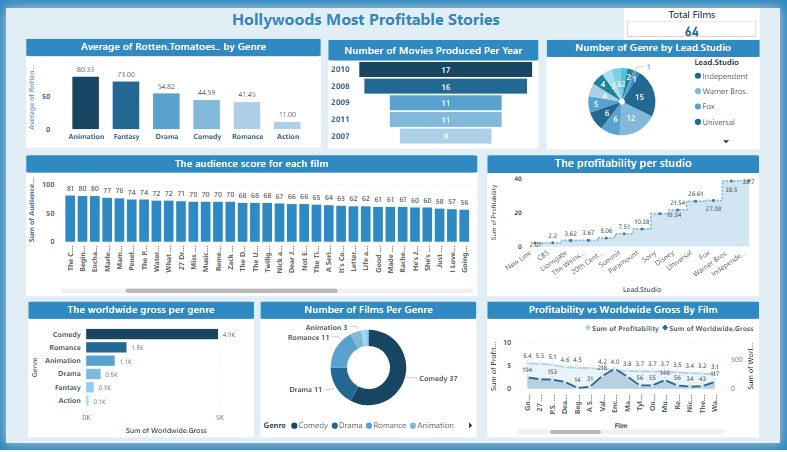

The dashboard page shown, as its layout file describes it:
{"tool":"powerbi","page":{"name":"Page 1","canvas":[1280,720],"ordinal":0},"visuals":[{"type":"actionButton","title":"Hollywoods Most Profitable Stories","box":[116.5,0,959.1,39.4],"z":0},{"type":"clusteredColumnChart","fields":{"Category":["clean_df.Genre"],"Y":["Avg(clean_df.Rotten.Tomatoes..)"]},"box":[32.5,51.4,488.1,179.8],"z":1000},{"type":"funnel","title":"Number of Movies Produced Per Year","fields":{"Category":["clean_df.Year"],"Y":["CountNonNull(clean_df.Film)"]},"box":[532.6,53.1,347.7,179.8],"z":2000},{"type":"clusteredColumnChart","title":"The audience score for each film","fields":{"Category":["clean_df.Film"],"Y":["Sum(clean_df.Audience..score..)"]},"box":[32.5,243.2,746.7,232.9],"z":3000},{"type":"areaChart","title":"The profitability per studio","fields":{"Category":["clean_df.Lead.Studio"],"Y":["Sum(clean_df.Profitability)"]},"box":[796.4,243.2,450.4,232.9],"z":4000},{"type":"barChart","title":"The worldwide gross per genre","fields":{"Category":["clean_df.Genre"],"Y":["Sum(clean_df.Worldwide.Gross)"]},"box":[36,486.4,373.4,224.4],"z":5000},{"type":"donutChart","title":"Number of Genre by Lead.Studio","fields":{"Category":["clean_df.Lead.Studio"],"Y":["CountNonNull(clean_df.Genre)"]},"box":[894,53.1,352.8,181.5],"z":6000},{"type":"areaChart","title":"Profitability vs Worldwide Gross By Film","fields":{"Category":["clean_df.Film"],"Y":["Sum(clean_df.Profitability)"],"Y2":["Sum(clean_df.Worldwide.Gross)"]},"box":[796.4,486.4,450.4,224.4],"z":7000},{"type":"donutChart","title":"Number of Films Per Genre","fields":{"Y":["CountNonNull(clean_df.Film)"],"Category":["clean_df.Genre"]},"box":[421.3,486.4,357.9,224.4],"z":8000},{"type":"cardVisual","title":"Total Films","fields":{"Data":["Count(clean_df.Film)"]},"box":[1022.5,0,224.4,53.1],"z":9000}]}

Visuals, with their boxes in screenshot pixels (x1, y1, x2, y2), scaled from the page's 1280x720 canvas onto the 787x452 screenshot:
"Hollywoods Most Profitable Stories" actionButton: bbox=[72, 0, 661, 25]
clusteredColumnChart - clean_df.Genre x Avg(clean_df.Rotten.Tomatoes..): bbox=[20, 32, 320, 145]
"Number of Movies Produced Per Year" funnel: bbox=[327, 33, 541, 146]
"The audience score for each film" clusteredColumnChart: bbox=[20, 153, 479, 299]
"The profitability per studio" areaChart: bbox=[490, 153, 767, 299]
"The worldwide gross per genre" barChart: bbox=[22, 305, 252, 446]
"Number of Genre by Lead.Studio" donutChart: bbox=[550, 33, 767, 147]
"Profitability vs Worldwide Gross By Film" areaChart: bbox=[490, 305, 767, 446]
"Number of Films Per Genre" donutChart: bbox=[259, 305, 479, 446]
"Total Films" cardVisual: bbox=[629, 0, 767, 33]
